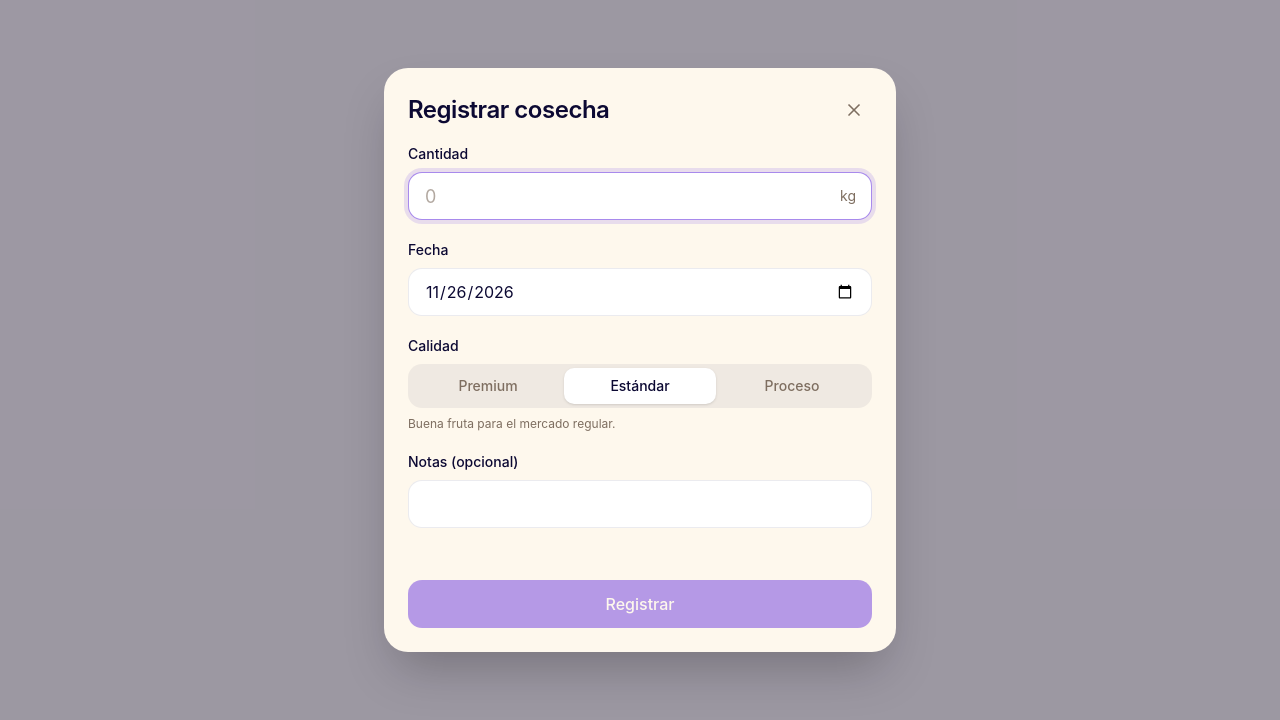
HarvestSheet › muestra el error del servidor y no cierra
The width and height of the screenshot is (1280, 720).
In the field labelled "Cantidad": (640, 196) x1=408 y1=172 x2=872 y2=220, type "3"
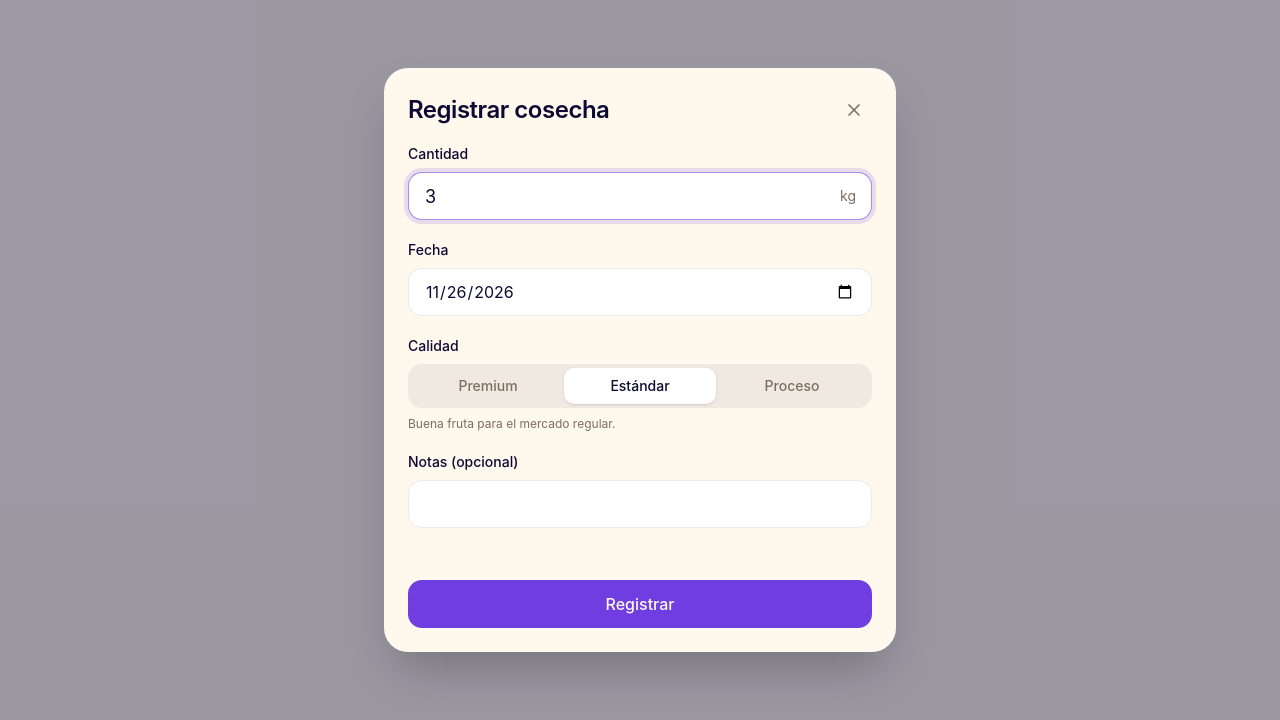
Click the button "Registrar": (640, 604) x1=408 y1=580 x2=872 y2=628
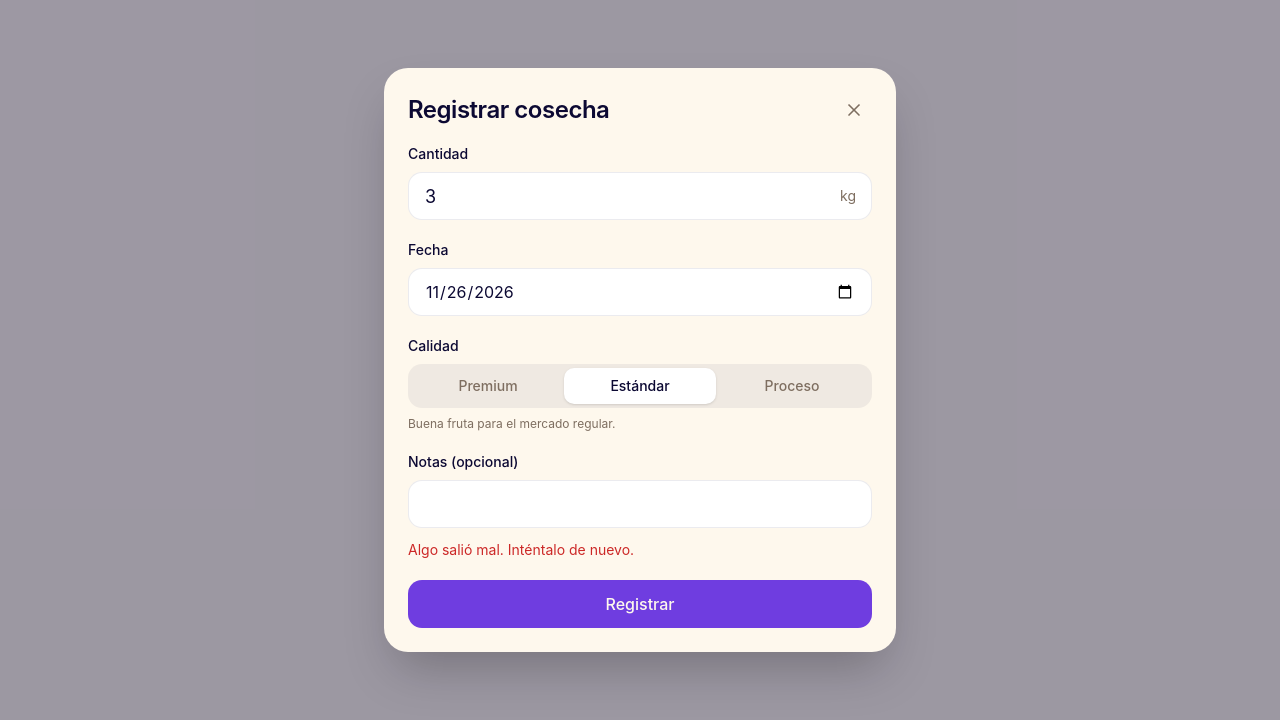
Expected: the text "Algo salió mal. Inténtalo de nuevo." is shown, x1=408 y1=541 x2=634 y2=558
